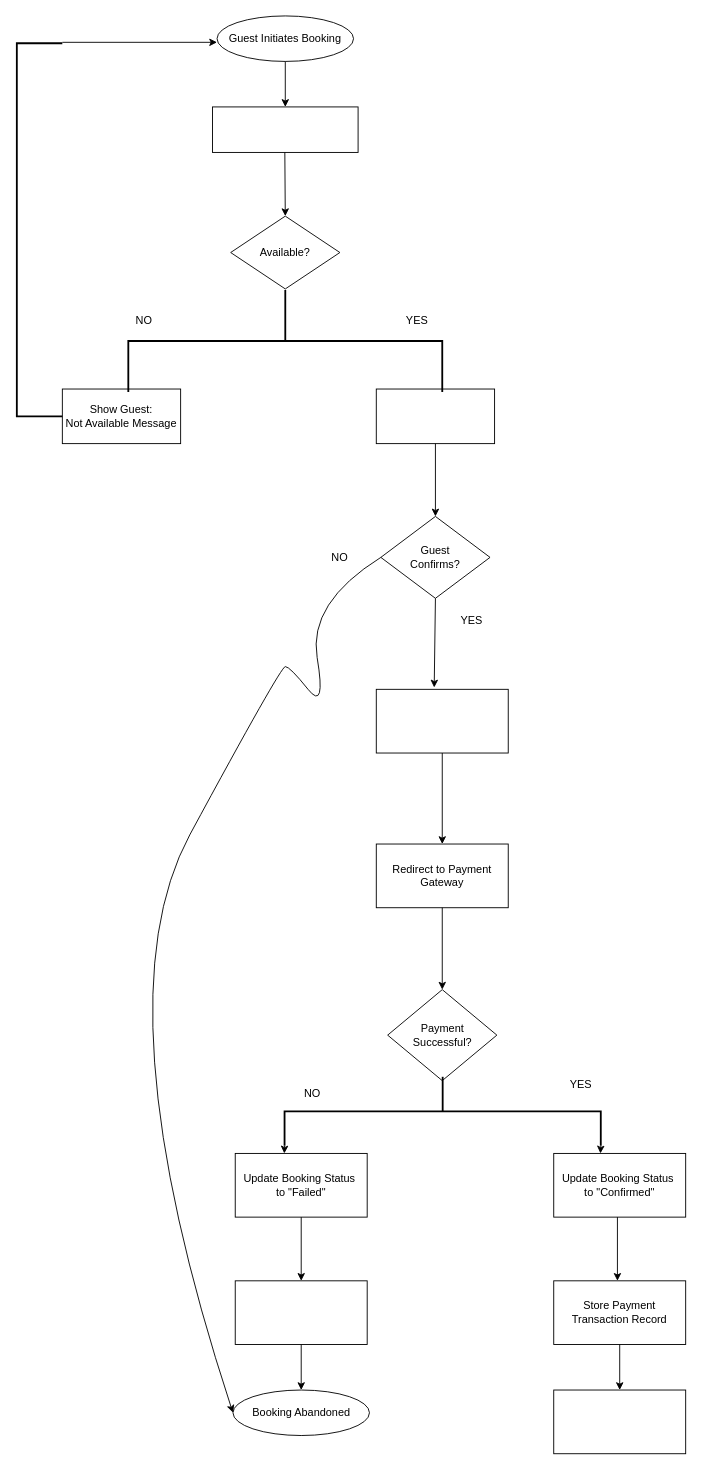
This 702x1470 diagram has some shape labels left out. Each missing label, with the box of its shape:
Check Property Availability: (212, 106, 358, 152)
Create "Pending" Booking in the Database: (375, 688, 508, 753)
Notify Guest of Payment Failure: (234, 1280, 367, 1345)
Send Confirmation Email & Notification: (553, 1389, 686, 1454)
Show Guest: Total Price & Summary: (375, 388, 495, 444)
